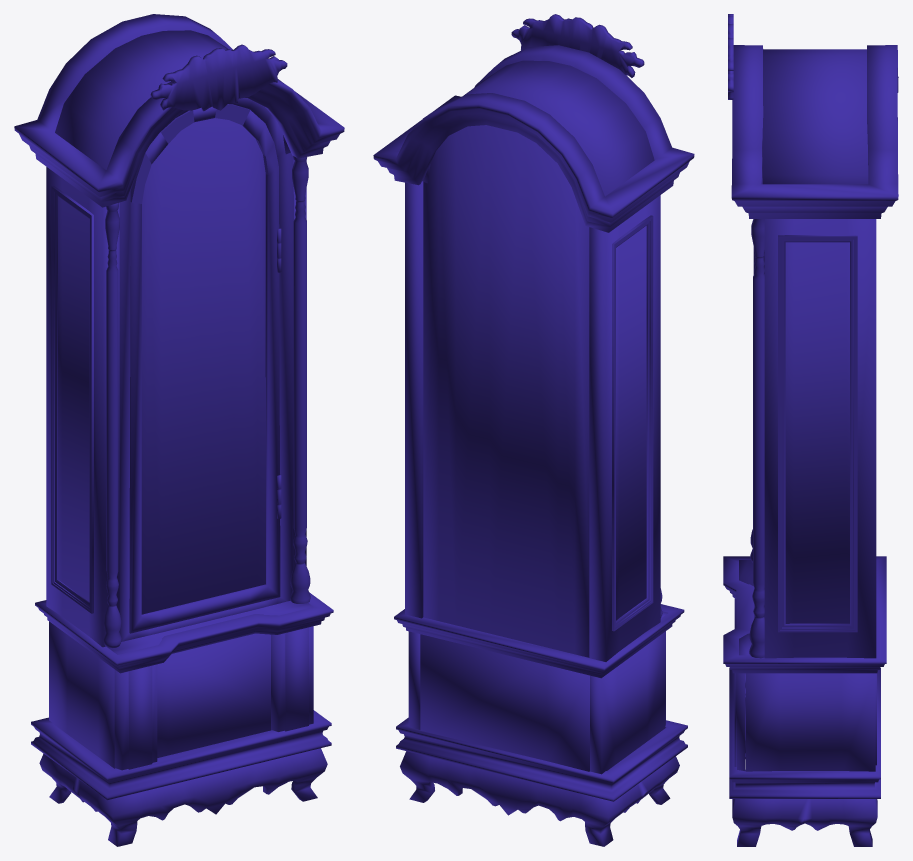
The model's file is A_GrandfatherClock.obj.
3 views of the same model, side by side, from view 1: azimuth 30°, elevation 25°; view 2: azimuth 150°, elevation 25°; view 3: azimuth 270°, elevation 25° (orthographic). The views are drawn at different scales.
Visible parts, largest first — view 1: body, Object001, door; view 2: body; view 3: body.
Boxes of the visible parts, x1=… form: body: x1=14, y1=14, x2=344, y2=846; Object001: x1=141, y1=118, x2=265, y2=614; door: x1=129, y1=104, x2=280, y2=633; body: x1=373, y1=14, x2=694, y2=846; body: x1=723, y1=14, x2=898, y2=846.
Size of the model in its own units: 69.64 by 210 by 43.1.
